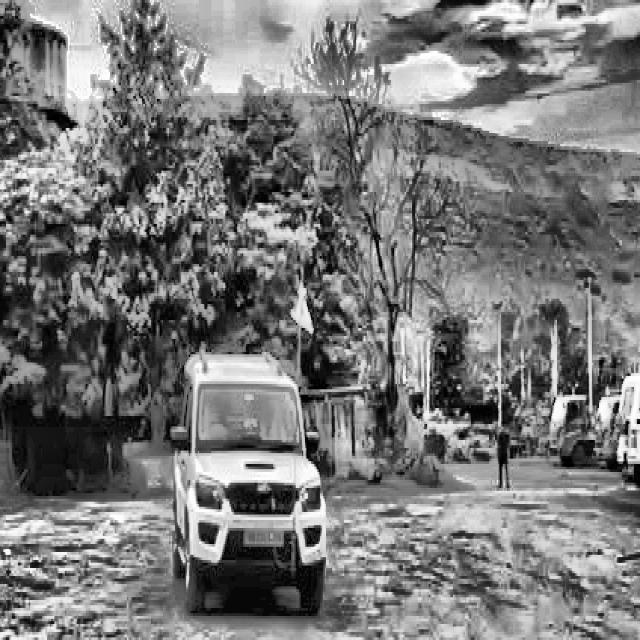light_vehicle: (173, 366, 331, 601)
